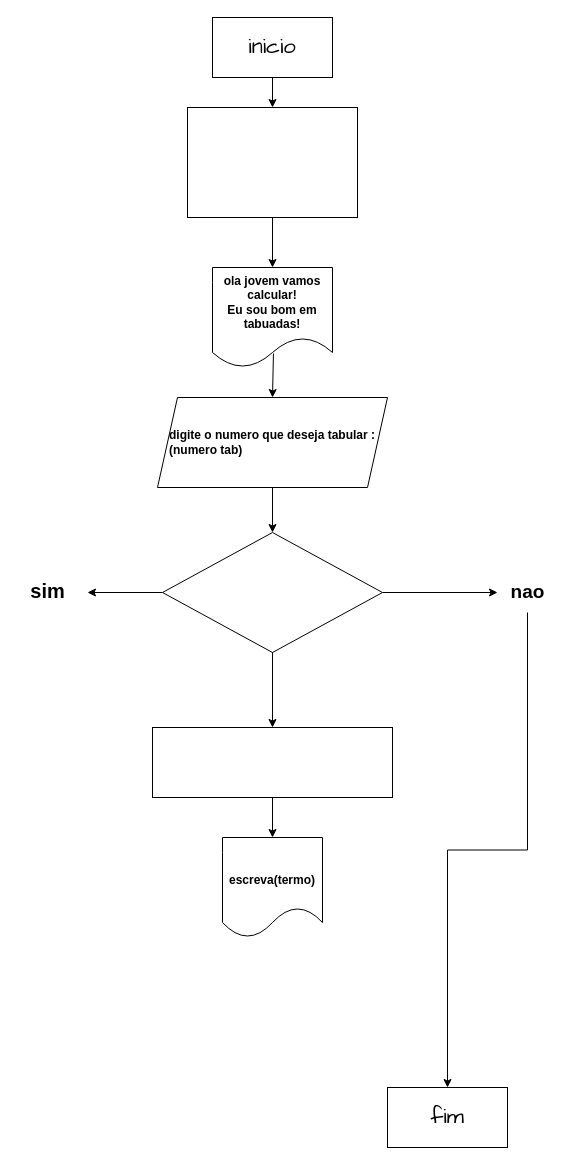
The diagram is 574 pixels wide and 1165 high, and some of its shapes have lost their labels. The centre of each missing label's shape, as x and y in pixels:
"(contador < = 10)?" goes at (x=272, y=592).
"contador < = contador + 1 termo < = termo + numerotab" goes at (x=272, y=762).
"inteiro numerotab < = 0 termo < = 0 contador < = 0" goes at (x=272, y=162).
